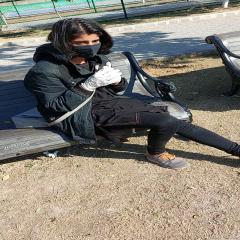gloved: (80, 69, 120, 89), (100, 66, 121, 85)
